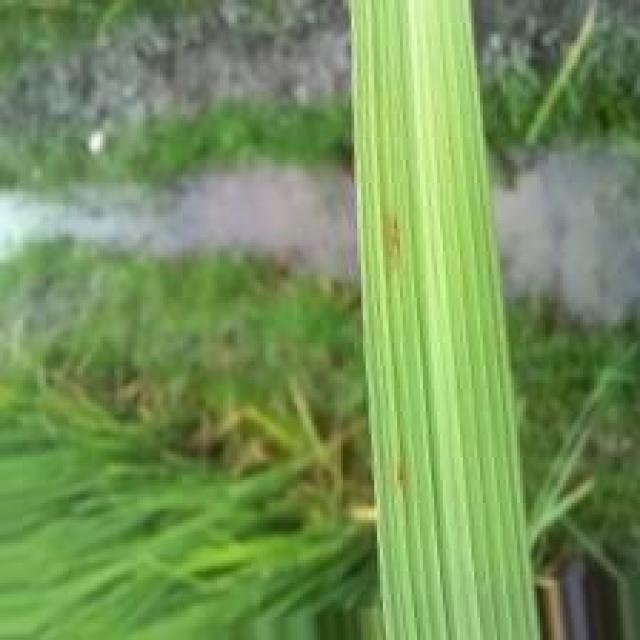Brown_Spot: (388, 217, 402, 255), (396, 466, 408, 485)
